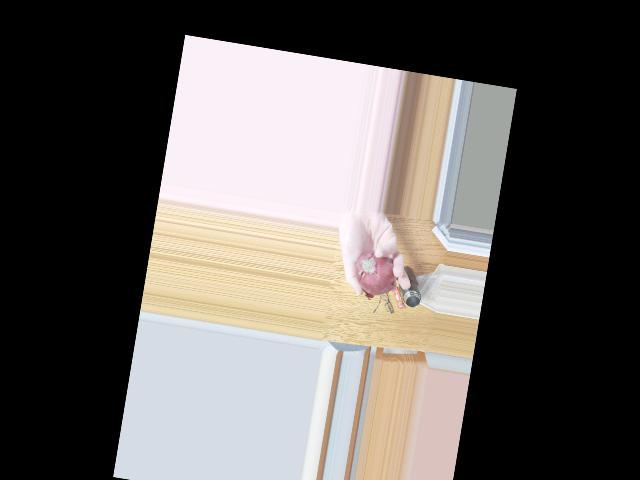onion: (352, 248, 396, 293)
